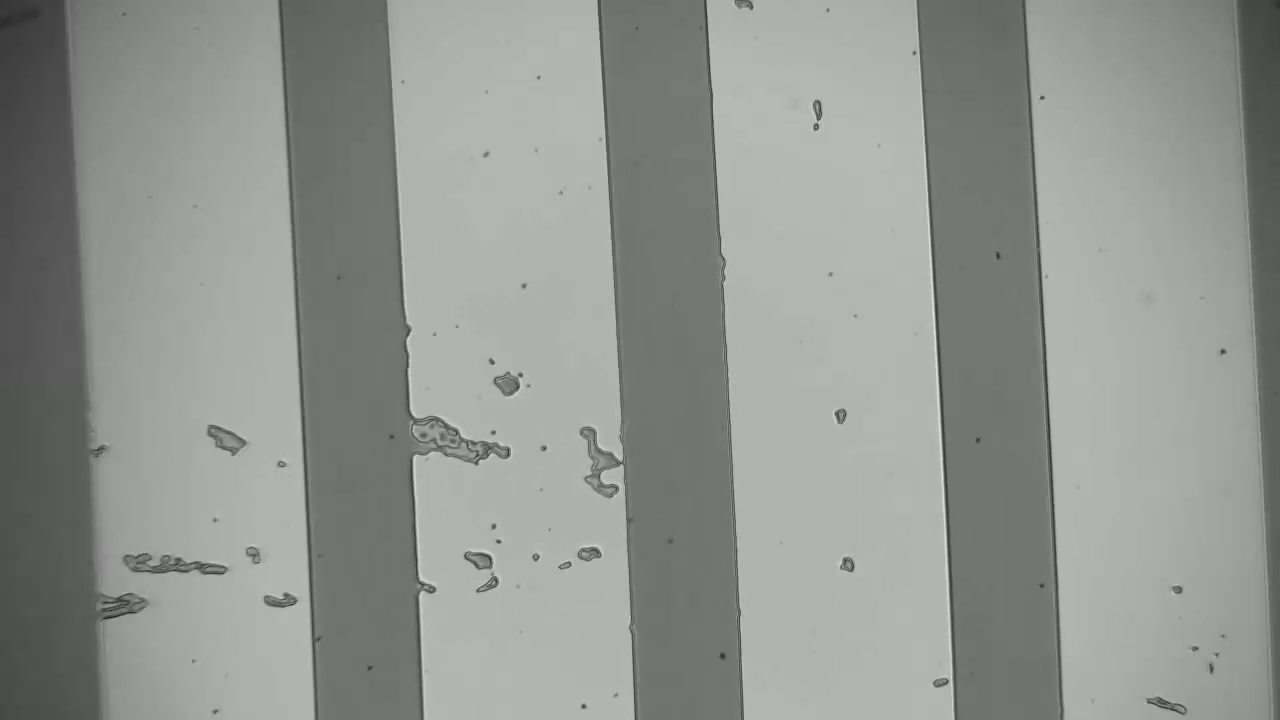edge_bite: (397, 313, 421, 341)
